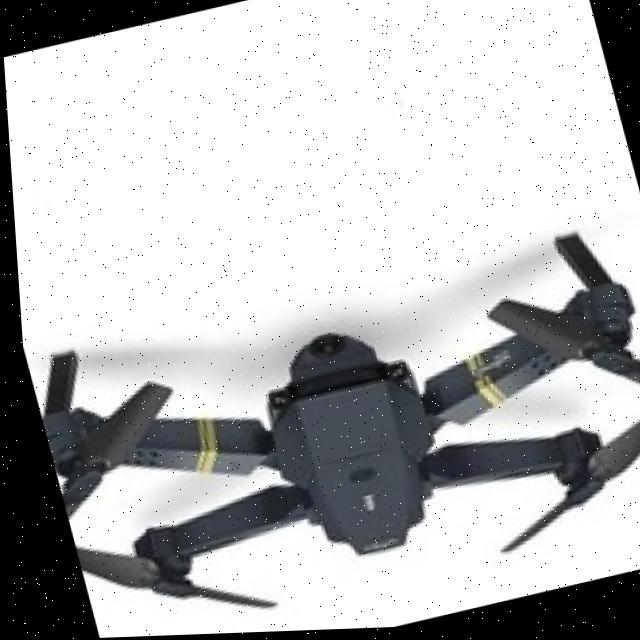drones: (10, 165, 640, 640)
